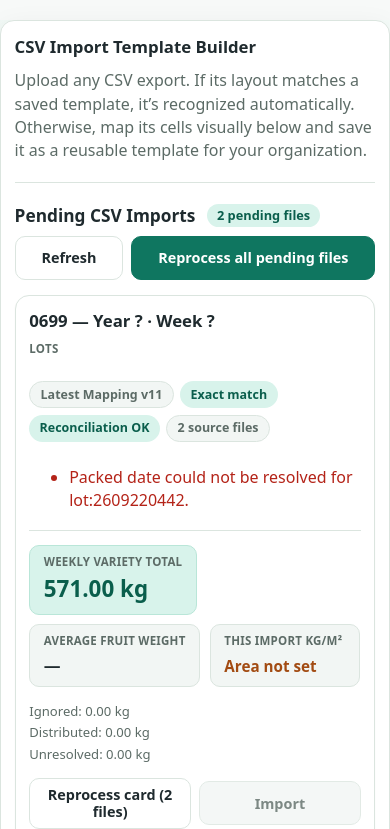
CsvTemplateBuilderTab — reprocessing pending files › confirms with the file count and target template before doing anything
This screenshot has width=390, height=829.
Step 1. Click the button "Reprocess all pending files" → (253, 258), box [131, 236, 375, 280]
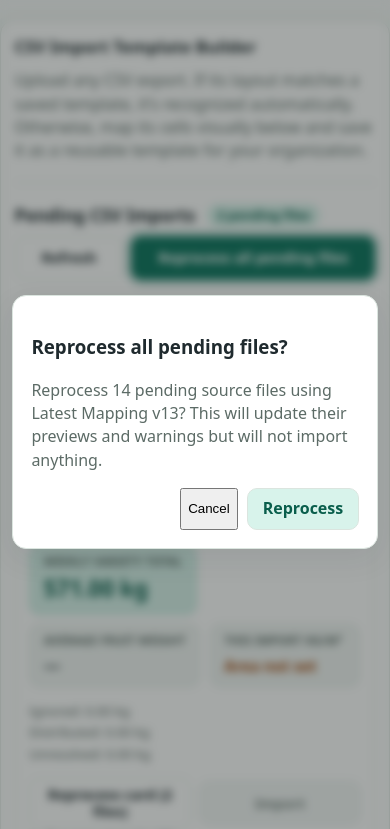
Expected: the text "Reprocess 14 pending source files using Latest Mapping v13? This will update their previews and warnings but will not im" is shown, [31, 379, 348, 471]
